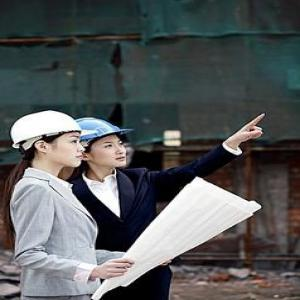blue: (73, 116, 132, 171)
white: (11, 110, 91, 172)
